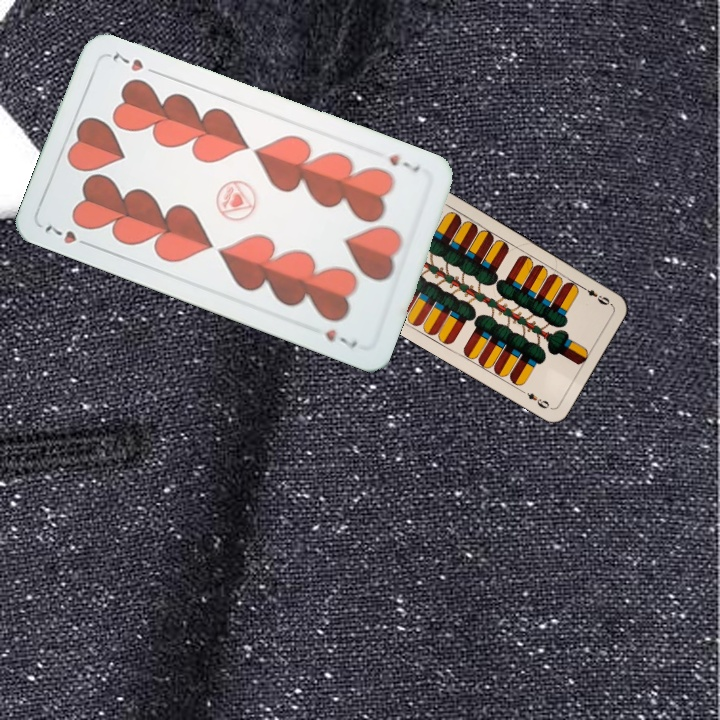E9: (577, 282, 614, 308)
H7: (40, 220, 95, 250), (385, 150, 422, 174)
